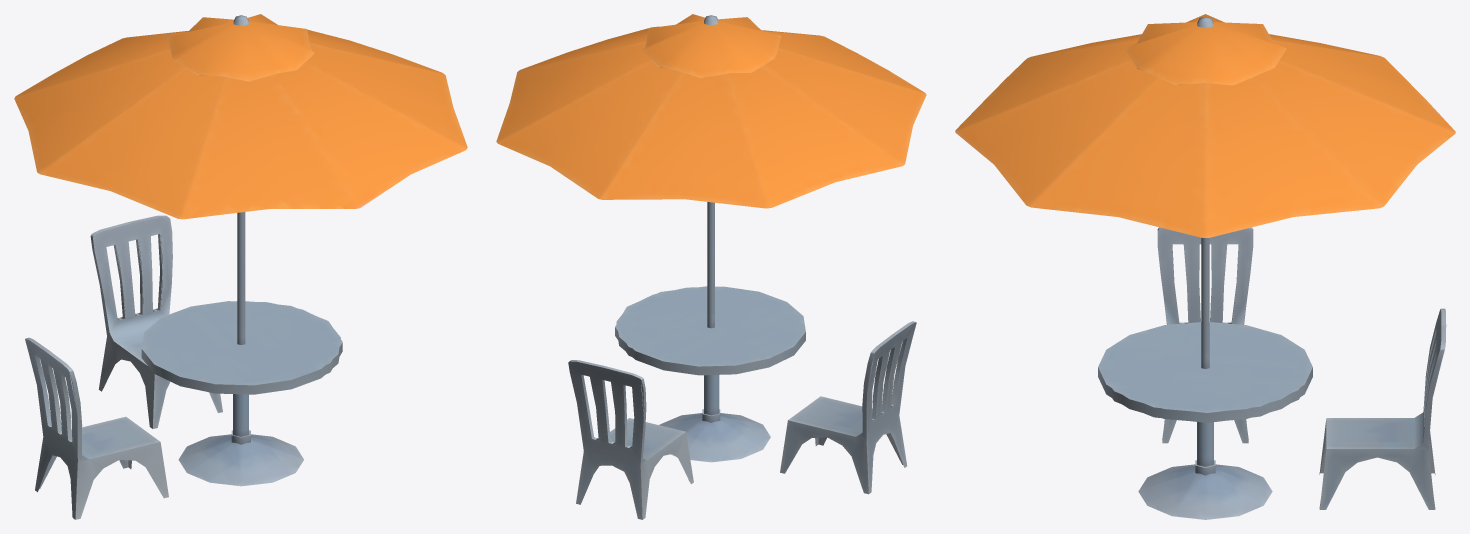
Rendered from objects_un_t05table01.gltf.
The picture shows the model from 3 angles, left to right: view 1: azimuth 30°, elevation 25°; view 2: azimuth 150°, elevation 25°; view 3: azimuth 270°, elevation 25°; orthographic projection. The views are drawn at different scales.
Visible parts, largest first — view 1: um_objects_un_t05table01_model_lod0Shape:objects_un_t05table (×2), um_objects_un_t05table01_model_lod1Shape:objects_un_t05table (×2), um_objects_un_t05table01_model_lod2Shape:objects_un_t05table (×2); view 2: um_objects_un_t05table01_model_lod0Shape:objects_un_t05table (×2), um_objects_un_t05table01_model_lod1Shape:objects_un_t05table (×2), um_objects_un_t05table01_model_lod2Shape:objects_un_t05table (×2); view 3: um_objects_un_t05table01_model_lod0Shape:objects_un_t05table (×2), um_objects_un_t05table01_model_lod1Shape:objects_un_t05table (×2), um_objects_un_t05table01_model_lod2Shape:objects_un_t05table (×2).
Part boxes in pixels (x1,y1,x2,y2): um_objects_un_t05table01_model_lod0Shape:objects_un_t05table (×2): [14, 15, 467, 519]; um_objects_un_t05table01_model_lod1Shape:objects_un_t05table (×2): [15, 80, 464, 519]; um_objects_un_t05table01_model_lod2Shape:objects_un_t05table (×2): [25, 14, 314, 461]; um_objects_un_t05table01_model_lod0Shape:objects_un_t05table (×2): [496, 15, 926, 519]; um_objects_un_t05table01_model_lod1Shape:objects_un_t05table (×2): [501, 78, 925, 519]; um_objects_un_t05table01_model_lod2Shape:objects_un_t05table (×2): [569, 14, 916, 464]; um_objects_un_t05table01_model_lod0Shape:objects_un_t05table (×2): [955, 14, 1455, 509]; um_objects_un_t05table01_model_lod1Shape:objects_un_t05table (×2): [956, 133, 1453, 519]; um_objects_un_t05table01_model_lod2Shape:objects_un_t05table (×2): [1124, 14, 1443, 425].
Size of the model in its own units: 2.73 by 2.86 by 2.73.
Materials: 2 (2 with a texture image).
